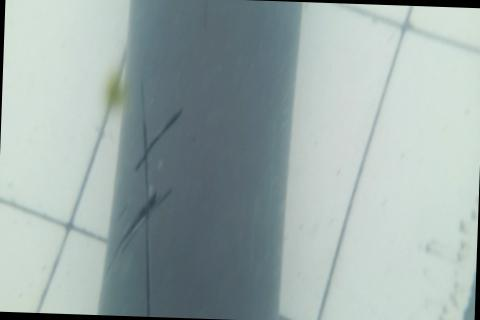keretakan: (112, 74, 185, 318)
